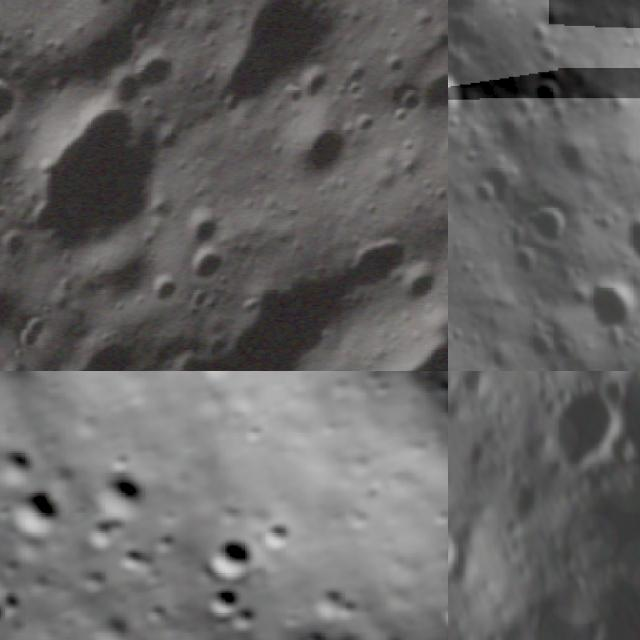crater: (9, 90, 191, 278), (191, 0, 357, 147), (322, 200, 444, 328), (102, 27, 200, 132), (82, 452, 161, 531), (572, 260, 640, 348), (0, 471, 75, 548), (461, 145, 537, 219), (171, 232, 243, 308), (554, 392, 620, 472), (194, 521, 265, 592), (122, 256, 190, 329), (59, 499, 132, 567), (550, 125, 614, 198), (168, 196, 232, 260), (21, 291, 85, 354), (524, 199, 586, 259), (292, 572, 354, 632), (448, 50, 484, 153), (605, 193, 640, 295), (516, 67, 574, 125), (484, 105, 540, 165), (0, 61, 39, 146), (191, 570, 249, 627), (0, 428, 47, 497), (251, 505, 308, 561), (590, 75, 640, 133), (522, 30, 571, 80), (515, 319, 563, 368), (214, 614, 297, 640), (504, 238, 548, 284), (0, 572, 38, 618), (518, 14, 558, 52), (550, 332, 582, 368), (458, 371, 493, 397), (0, 176, 13, 245), (448, 521, 462, 579), (468, 0, 527, 13)
